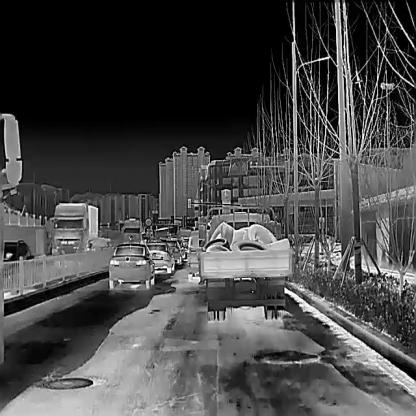car: (107, 241, 156, 290), (0, 237, 32, 296), (186, 227, 209, 282), (147, 240, 175, 274), (166, 238, 182, 265)
truck: (197, 205, 295, 320), (46, 200, 98, 252), (117, 216, 146, 244)
